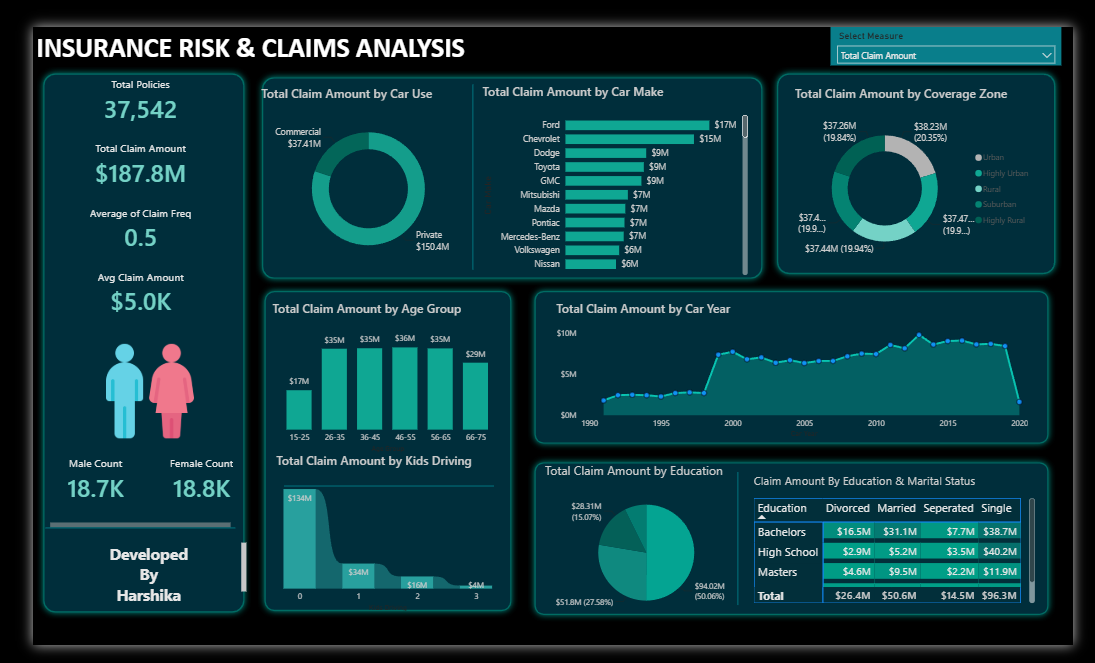

The page's visual inventory and layout, read from the dashboard file:
{"tool":"powerbi","page":{"name":"Page 1","canvas":[1600,950],"ordinal":0},"visuals":[{"type":"textbox","box":[0,0,678,66],"z":0},{"type":"shape","box":[5.4,60.7,329.5,849.2],"z":1000},{"type":"cardVisual","fields":{"Data":["insurance_data_car.Total Policies","insurance_data_car.Total Claim Amount","Avg(insurance_data_car.Claim Freq)","insurance_data_car.Avg Claim Amount"]},"box":[30.6,58.3,270.5,424.6],"z":2000},{"type":"cardVisual","fields":{"Data":["insurance_data_car.Male Count","insurance_data_car.Female Count"]},"box":[10,614,324,164],"z":3000},{"type":"image","box":[330,719,355,189],"z":4000},{"type":"image","box":[622.9,685.2,110,110],"z":5000},{"type":"image","box":[462.7,725.3,110,110],"z":6000},{"type":"slicer","fields":{"Values":["Select Measure.Select Measure"]},"box":[1226.8,0,355.4,58.9],"z":7000},{"type":"shape","box":[342.6,66.7,790,330],"z":8000},{"type":"donutChart","fields":{"Category":["insurance_data_car.Car Use"],"Y":["insurance_data_car.Total Policies"]},"box":[346,88,340,285],"z":9000},{"type":"clusteredBarChart","fields":{"Category":["insurance_data_car.Car Make"],"Y":["insurance_data_car.Total Policies"]},"box":[685.7,87.5,418.2,300.3],"z":10000},{"type":"shape","box":[1133.9,60.7,448.2,328.6],"z":11000},{"type":"donutChart","fields":{"Category":["insurance_data_car.Coverage Zone"],"Y":["insurance_data_car.Total Policies"]},"box":[1167.9,89.3,378.6,283.9],"z":12000},{"type":"shape","box":[346.4,396.4,400,512.5],"z":13000},{"type":"clusteredColumnChart","fields":{"Category":["insurance_data_car.Age Group"],"Y":["insurance_data_car.Total Policies"]},"box":[364.3,419.6,365,240],"z":14000},{"type":"ribbonChart","fields":{"Category":["insurance_data_car.Kids Driving"],"Y":["insurance_data_car.Total Policies"]},"box":[369.6,653.6,353.6,250],"z":15000},{"type":"shape","box":[762.5,396.4,811,255],"z":16000},{"type":"areaChart","fields":{"Category":["insurance_data_car.Car Year"],"Y":["insurance_data_car.Total Policies"]},"box":[800,419.6,735.7,217.9],"z":17000},{"type":"shape","box":[762.5,658.9,811,255],"z":18000},{"type":"pieChart","fields":{"Category":["insurance_data_car.Education"],"Y":["insurance_data_car.Total Policies"]},"box":[782.7,669.1,322,243],"z":19000},{"type":"pivotTable","title":"Claim Amount By Education & Marital Status ","fields":{"Columns":["insurance_data_car.Marital Status"],"Rows":["insurance_data_car.Education"],"Values":["insurance_data_car.Total Claim Amount"]},"box":[1104.7,686.1,442.5,205.3],"z":20000},{"type":"shape","box":[516.1,89,322.6,284.8],"z":21000},{"type":"shape","box":[923.3,685.2,322.6,204.7],"z":22000},{"type":"shape","box":[387.1,602.9,322.6,204.7],"z":23000},{"type":"shape","box":[20,734,292,72],"z":24000},{"type":"textbox","box":[31.1,787.6,302.6,102.3],"z":25000},{"type":"image","box":[0,476,360,166],"z":25001}]}

Visuals, with their boxes in screenshot pixels (x1, y1, x2, y2), scaled from the page's 1600x950 canvas onto the 1095x663 screenshot:
textbox: select_region(0, 0, 464, 46)
shape: select_region(4, 42, 229, 635)
cardVisual - insurance_data_car.Total Policies x insurance_data_car.Total Claim Amount: select_region(21, 41, 206, 337)
cardVisual - insurance_data_car.Male Count x insurance_data_car.Female Count: select_region(7, 429, 229, 543)
image: select_region(226, 502, 469, 634)
image: select_region(426, 478, 502, 555)
image: select_region(317, 506, 392, 583)
slicer - Select Measure.Select Measure: select_region(840, 0, 1083, 41)
shape: select_region(234, 47, 775, 277)
donutChart - insurance_data_car.Car Use x insurance_data_car.Total Policies: select_region(237, 61, 469, 260)
clusteredBarChart - insurance_data_car.Car Make x insurance_data_car.Total Policies: select_region(469, 61, 755, 271)
shape: select_region(776, 42, 1083, 272)
donutChart - insurance_data_car.Coverage Zone x insurance_data_car.Total Policies: select_region(799, 62, 1058, 260)
shape: select_region(237, 277, 511, 634)
clusteredColumnChart - insurance_data_car.Age Group x insurance_data_car.Total Policies: select_region(249, 293, 499, 460)
ribbonChart - insurance_data_car.Kids Driving x insurance_data_car.Total Policies: select_region(253, 456, 495, 631)
shape: select_region(522, 277, 1077, 455)
areaChart - insurance_data_car.Car Year x insurance_data_car.Total Policies: select_region(548, 293, 1051, 445)
shape: select_region(522, 460, 1077, 638)
pieChart - insurance_data_car.Education x insurance_data_car.Total Policies: select_region(536, 467, 756, 637)
"Claim Amount By Education & Marital Status " pivotTable: select_region(756, 479, 1059, 622)
shape: select_region(353, 62, 574, 261)
shape: select_region(632, 478, 853, 621)
shape: select_region(265, 421, 486, 564)
shape: select_region(14, 512, 214, 563)
textbox: select_region(21, 550, 228, 621)
image: select_region(0, 332, 246, 448)
